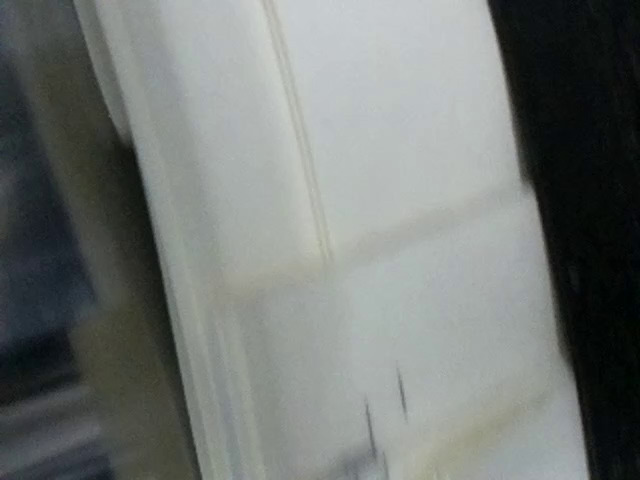not_sure: (302, 397, 393, 480)
